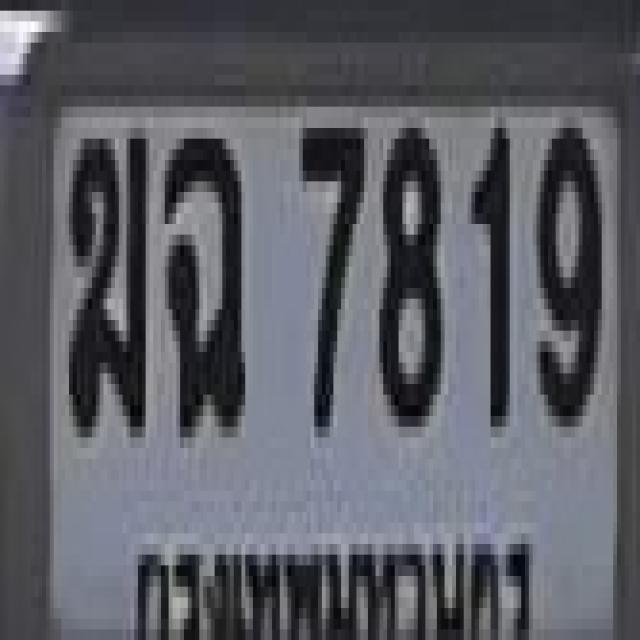-: (65, 128, 146, 427), (161, 128, 241, 427)
1: (467, 117, 506, 416)
7: (299, 117, 360, 427)
8: (375, 117, 437, 416)
9: (533, 117, 598, 416)
